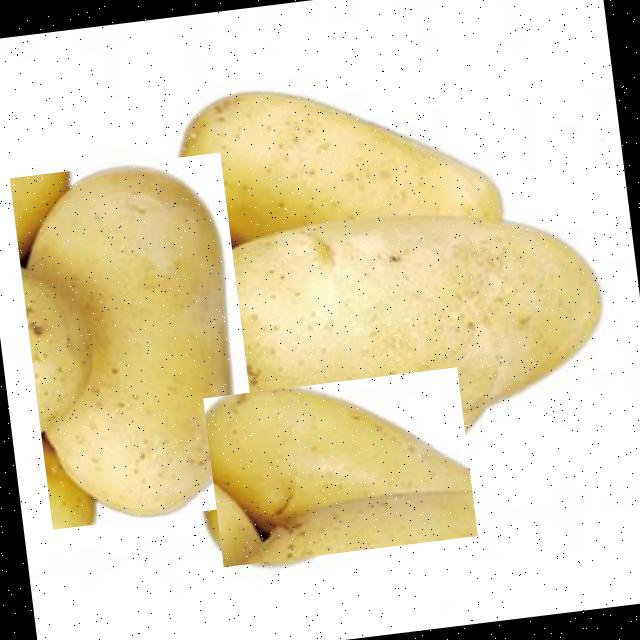Potato: (176, 186, 612, 444), (9, 151, 263, 528), (168, 55, 513, 298), (202, 366, 478, 566)
